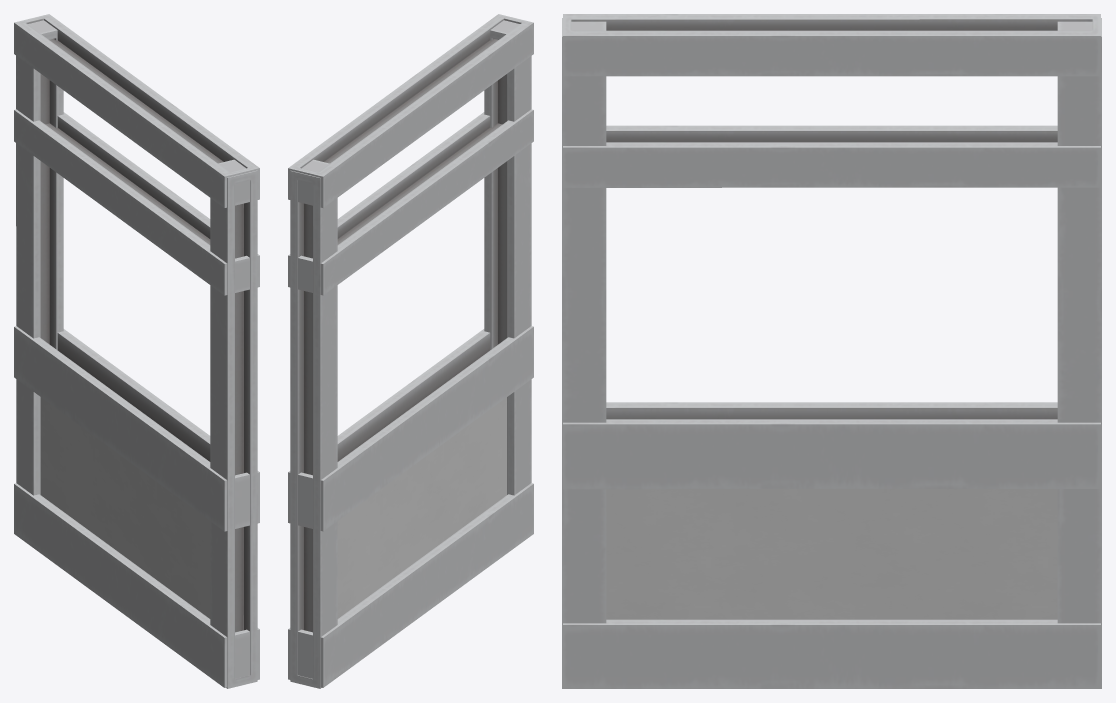
File: Pfb_GlassWall__3.fbx
3 views of the same model, side by side, from view 1: azimuth 30°, elevation 25°; view 2: azimuth 150°, elevation 25°; view 3: azimuth 270°, elevation 25° (orthographic). The views are drawn at different scales.
Visible parts, largest first — view 1: Mat_SteelFrame_01 7, Mat_Tile_Metal_01 12; view 2: Mat_SteelFrame_01 7, Mat_Tile_Metal_01 12; view 3: Mat_SteelFrame_01 7, Mat_Tile_Metal_01 12.
Boxes of the visible parts, left/top/right/bottom form: Mat_SteelFrame_01 7: left=14, top=14, right=259, bottom=688; Mat_Tile_Metal_01 12: left=40, top=397, right=210, bottom=618; Mat_SteelFrame_01 7: left=288, top=14, right=533, bottom=688; Mat_Tile_Metal_01 12: left=337, top=397, right=506, bottom=618; Mat_SteelFrame_01 7: left=562, top=14, right=1101, bottom=688; Mat_Tile_Metal_01 12: left=606, top=489, right=1057, bottom=619.
Size of the model in its own units: 0.2893 by 4.01 by 3.
2 materials, 2 textured.
